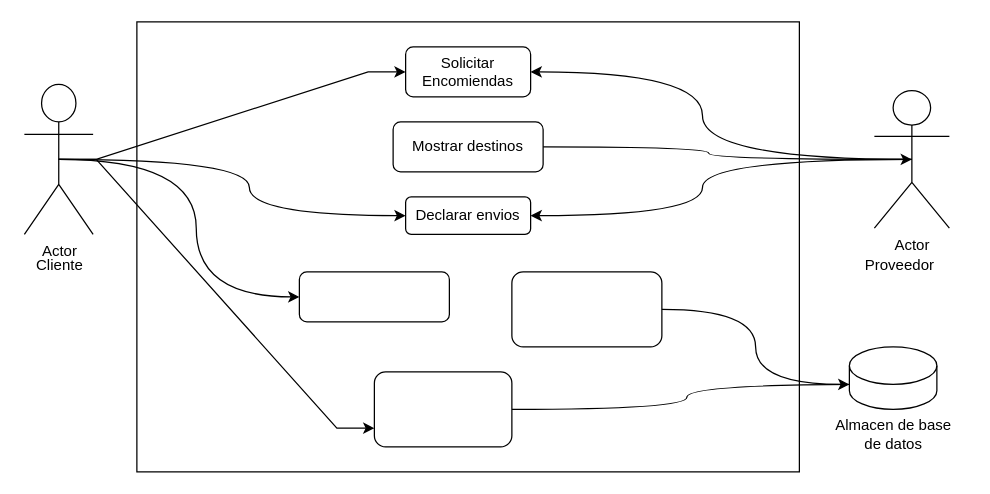
Some shapes in this 990 by 494 pixel diagram are drawn without their labels. The shapes that lost their labels are listed below. From the top down, each one's centre as x and y in pixels, then its label:
At point (373, 296): "Entrega Encomienda".
At point (586, 309): "Guardar Datos Encomienda".
At point (442, 409): "Generarar documento de pago".
